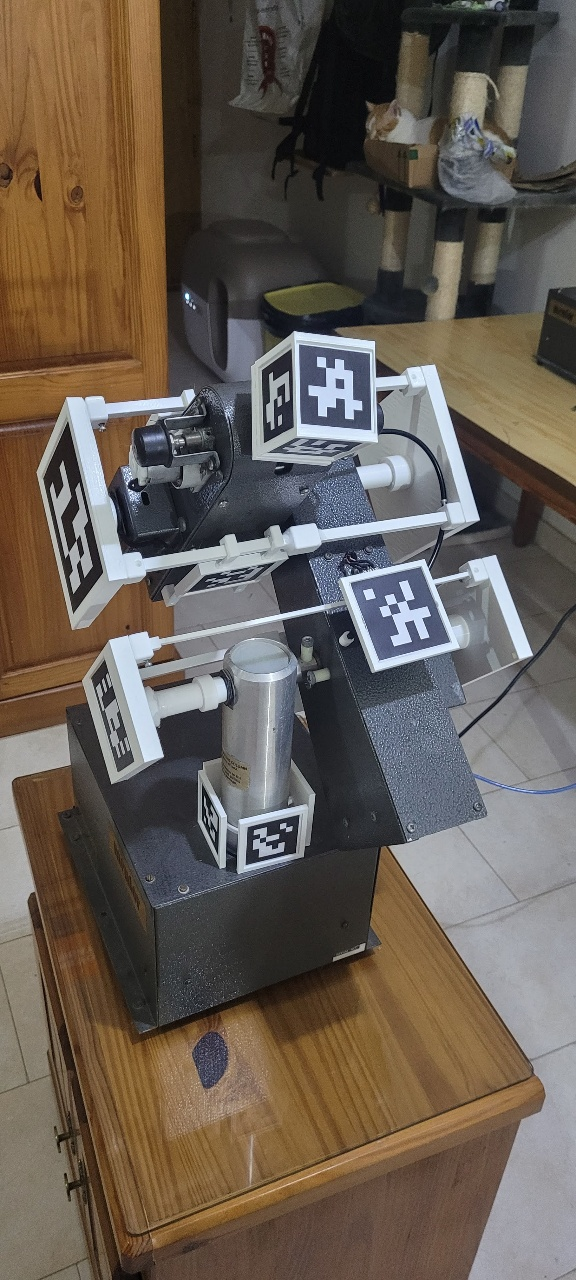Robot: (33, 332, 538, 879)
